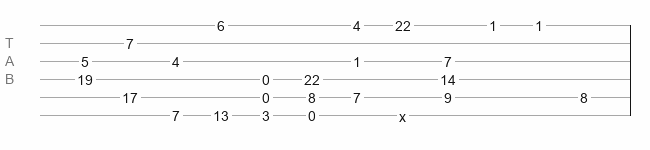0: (262, 72, 270, 82), (262, 90, 270, 100), (308, 108, 316, 118)
1: (353, 54, 361, 64), (489, 18, 497, 28), (535, 18, 543, 28)
13: (213, 108, 229, 118)
14: (440, 72, 456, 82)
17: (122, 90, 138, 100)
19: (77, 72, 93, 82)
22: (304, 72, 320, 82), (395, 18, 411, 28)
3: (262, 108, 270, 118)
4: (172, 54, 180, 64), (353, 18, 361, 28)
5: (81, 54, 89, 64)
6: (217, 18, 225, 28)
7: (126, 36, 134, 46), (172, 108, 180, 118), (353, 90, 361, 100), (444, 54, 452, 64)
8: (308, 90, 316, 100), (580, 90, 588, 100)
9: (444, 90, 452, 100)
x: (399, 109, 406, 117)
